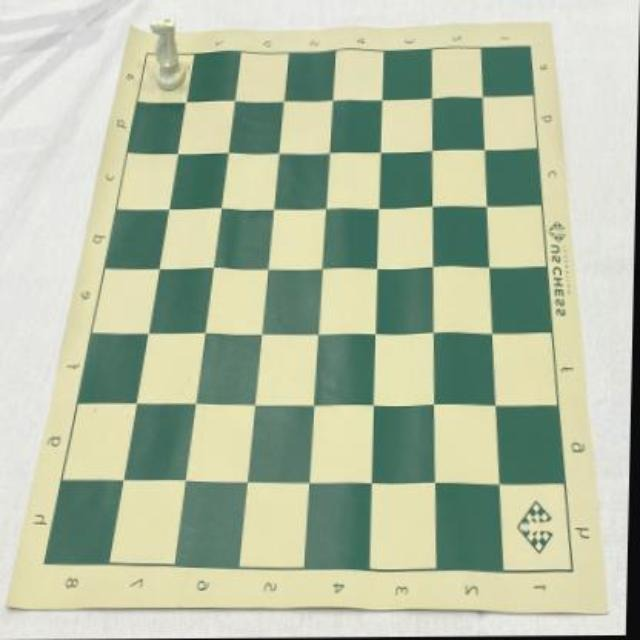white-knight: (149, 17, 187, 93)
